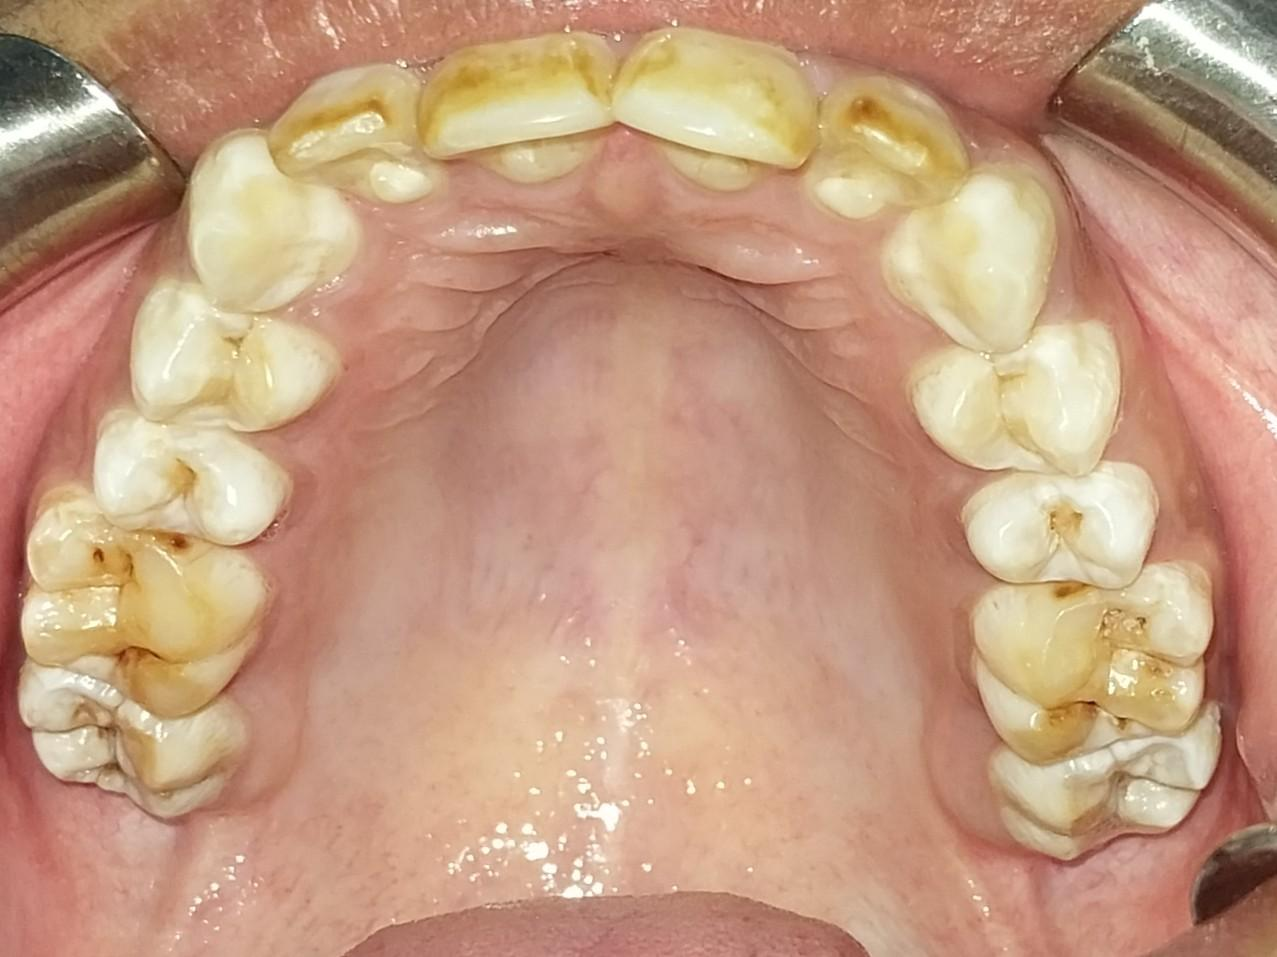D: (22, 485, 270, 719), (972, 563, 1214, 764), (20, 664, 241, 825), (131, 282, 340, 436)
